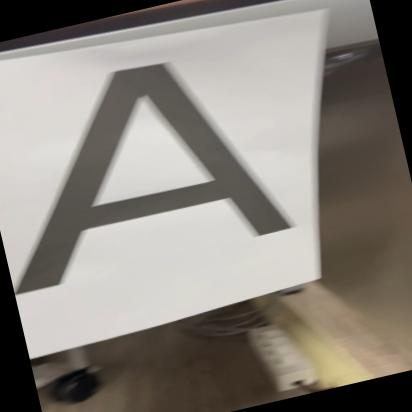seat: (0, 36, 300, 300)
